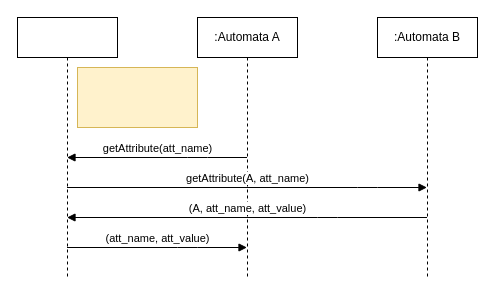
Some shapes in this 495 by 295 pixel diagram are drawn without their labels. Here are the shapes that lost their labels. From the top down, the box of each, then its label:
(76, 66, 198, 128): listen
(16, 16, 118, 278): :Listener A
